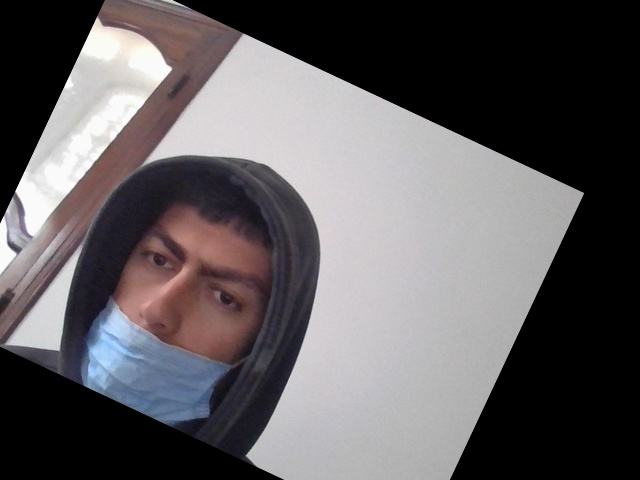mask_weared_incorrect: (78, 198, 265, 424)
